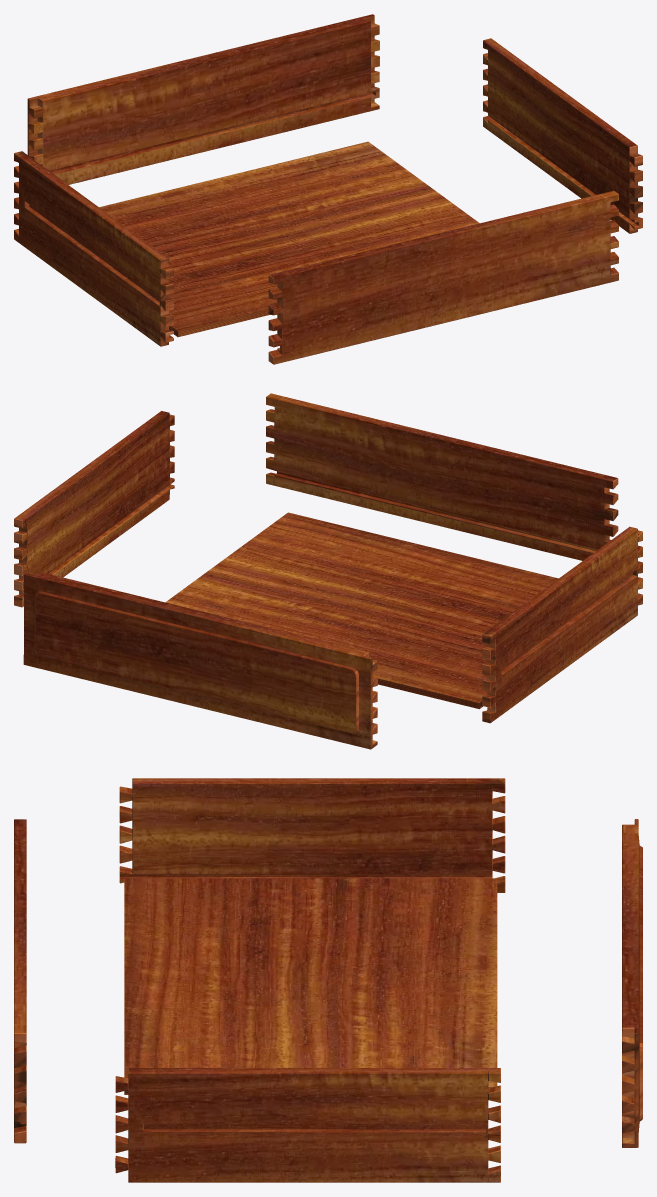
The model's file is SJ_J_choudiban_01.FBX.
The picture shows the model from 3 angles, top to bottom: view 1: azimuth 30°, elevation 25°; view 2: azimuth 150°, elevation 25°; view 3: azimuth 270°, elevation 25°; orthographic projection. The views are drawn at different scales.
Parts seen in each view (by area): view 1: SJ_J_choudiban_01, SJ_J_choumian_01, SJ_J_chouhou_01, SJ_J_chouce_02, SJ_J_chouce_01; view 2: SJ_J_choudiban_01, SJ_J_choumian_01, SJ_J_chouhou_01, SJ_J_chouce_02, SJ_J_chouce_01; view 3: SJ_J_choudiban_01, SJ_J_chouce_01, SJ_J_chouce_02, SJ_J_choumian_01, SJ_J_chouhou_01.
Boxes of the visible parts, x1,y1,x2,y2 form: SJ_J_choudiban_01: [99, 141, 479, 337]; SJ_J_choumian_01: [27, 14, 379, 184]; SJ_J_chouhou_01: [268, 190, 618, 364]; SJ_J_chouce_02: [14, 151, 173, 346]; SJ_J_chouce_01: [483, 38, 642, 233]; SJ_J_choudiban_01: [165, 512, 558, 709]; SJ_J_choumian_01: [23, 571, 377, 749]; SJ_J_chouhou_01: [266, 393, 618, 560]; SJ_J_chouce_02: [482, 526, 642, 723]; SJ_J_chouce_01: [14, 411, 174, 607]; SJ_J_choudiban_01: [124, 878, 497, 1094]; SJ_J_chouce_01: [115, 1068, 500, 1182]; SJ_J_chouce_02: [119, 778, 505, 892]; SJ_J_choumian_01: [622, 819, 642, 1147]; SJ_J_chouhou_01: [14, 819, 26, 1143].
Bounding box in the file's own units: 66.07 × 12.01 × 59.54.
